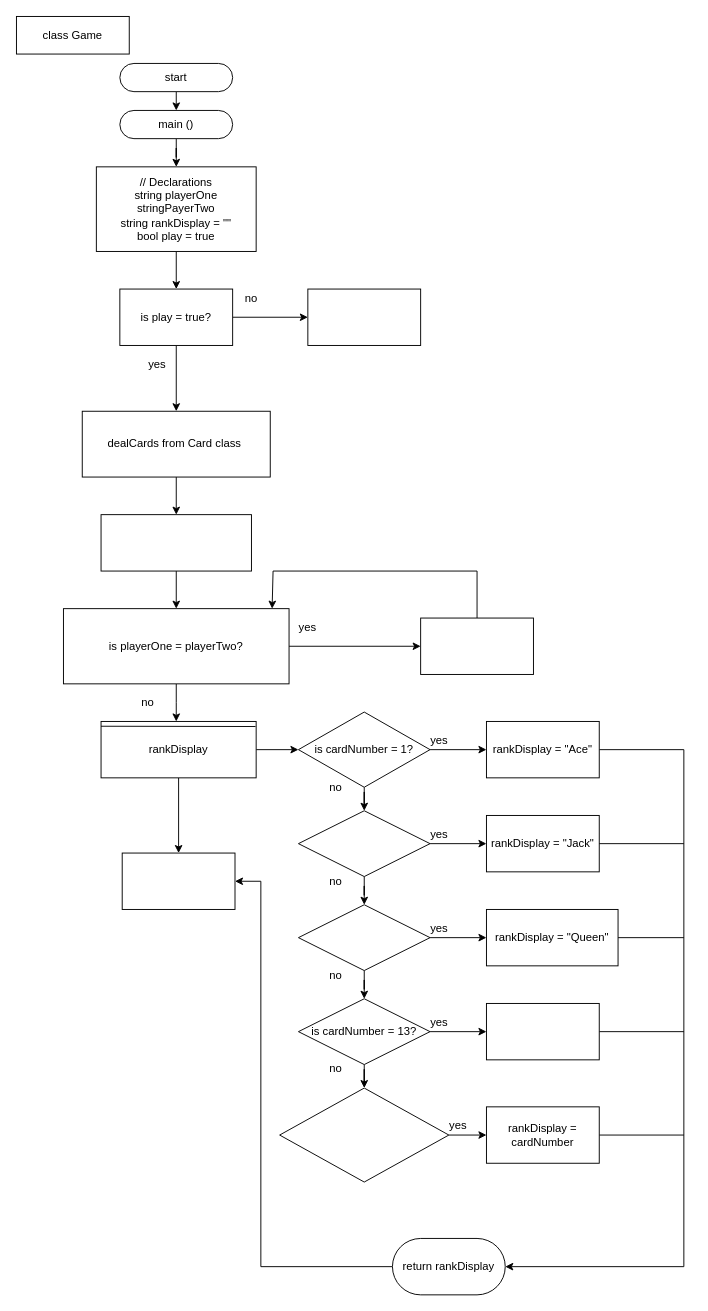
Some shapes in this 708 by 1311 pixel diagram are drawn without their labels. The centre of each missing label's shape, as x and y in pixels:
assign cards to playerOne and playerTwo: point 175,542
dealCards to playerTwo: point 476,645
end program: point 364,316
is cardNumber = 11?: point 364,843
is cardNumber = 12?: point 364,937
is cardNumber >= 2 AND <= 10?: point 364,1134
rankDisplay = "King": point 542,1031
